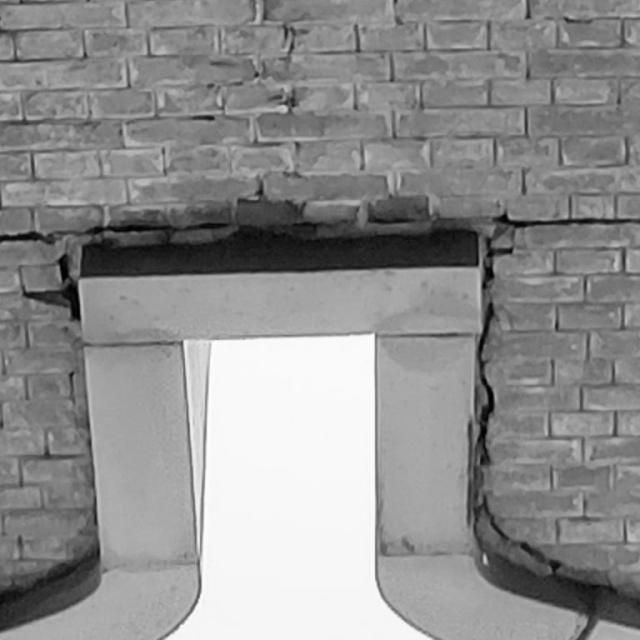crack: (475, 209, 638, 594), (1, 218, 414, 246), (21, 255, 80, 322)
